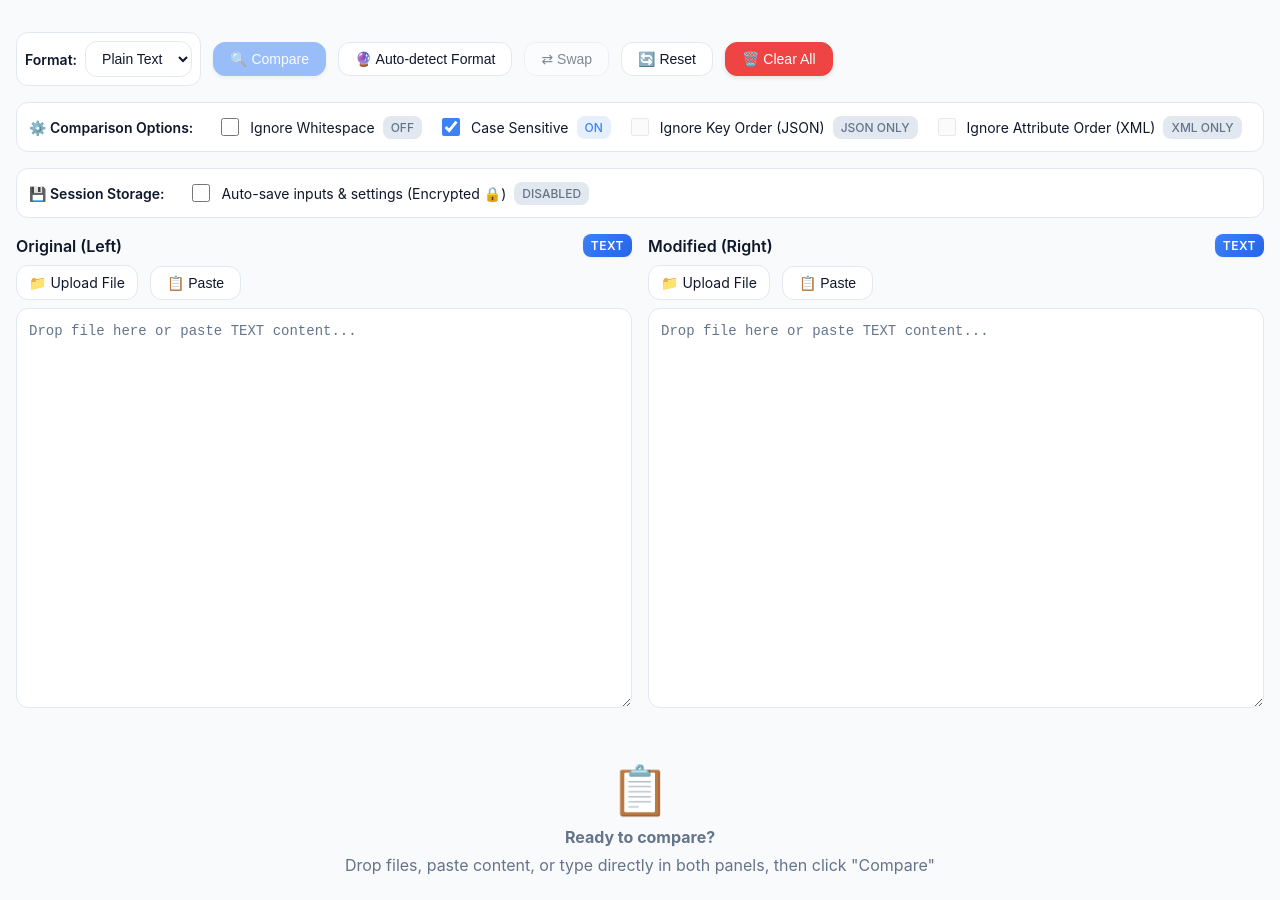
Test: DiffChecker - File Handling › Reset Functionality › should reset to empty content
This screenshot has width=1280, height=900.
# Add content
Type "Left content" into the text box with placeholder "Drop file here or paste TEXT content..." below "Original (Left)" at (324, 508), box [16,308,632,708]
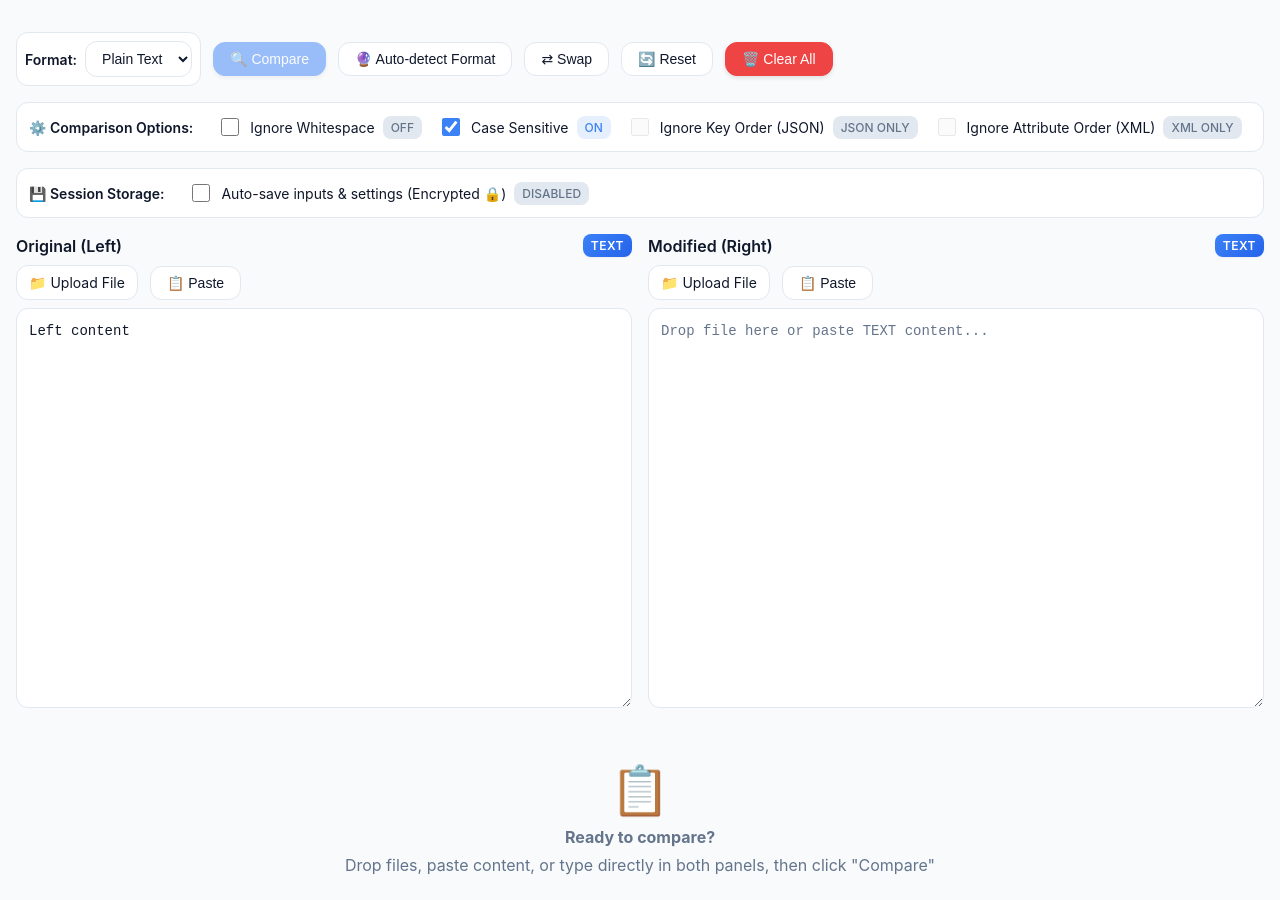
Type "Right content" into the text box with placeholder "Drop file here or paste TEXT content..." at (956, 508), box [648,308,1264,708]
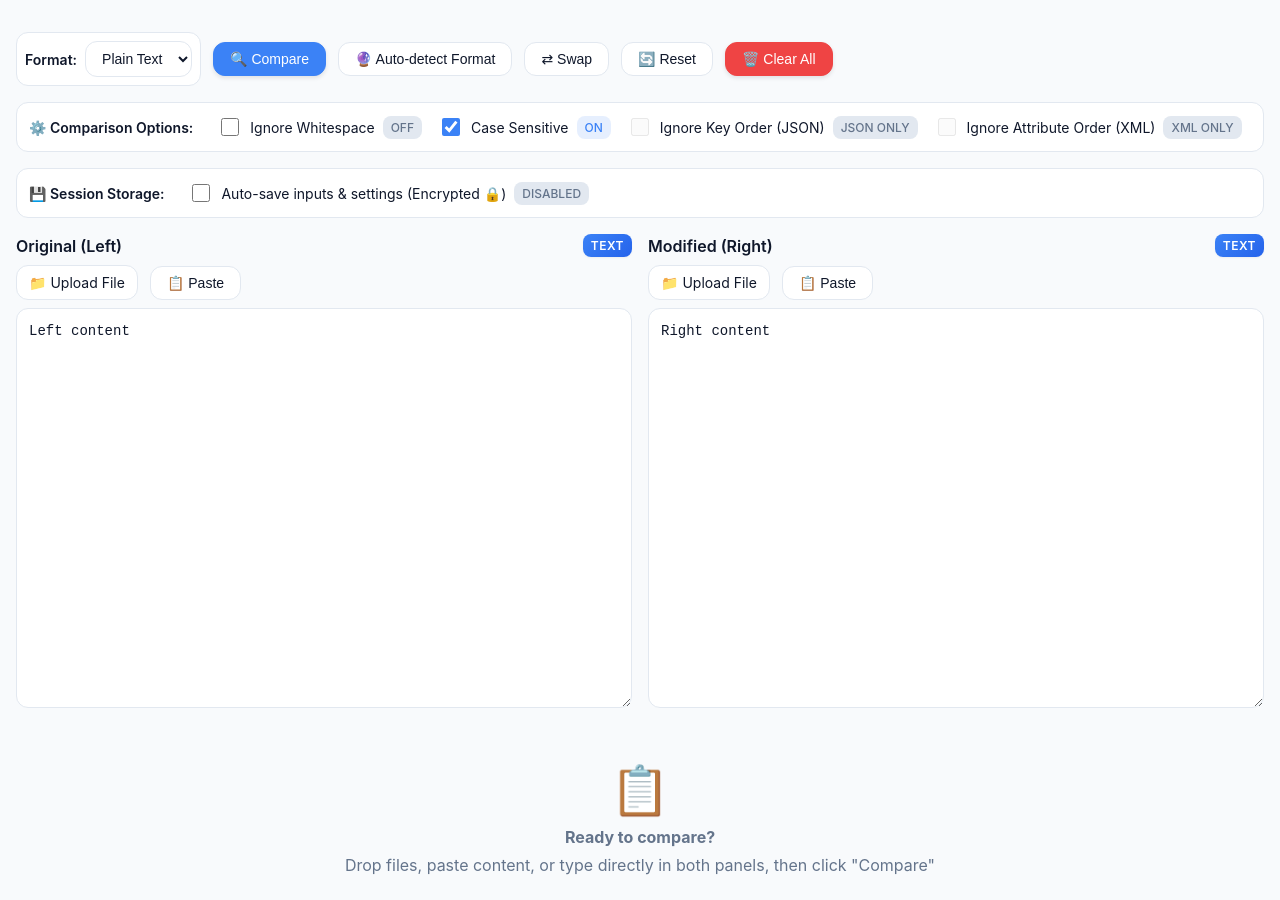
Select "JSON" in the dropdown at (139, 59), box [85,41,192,77]
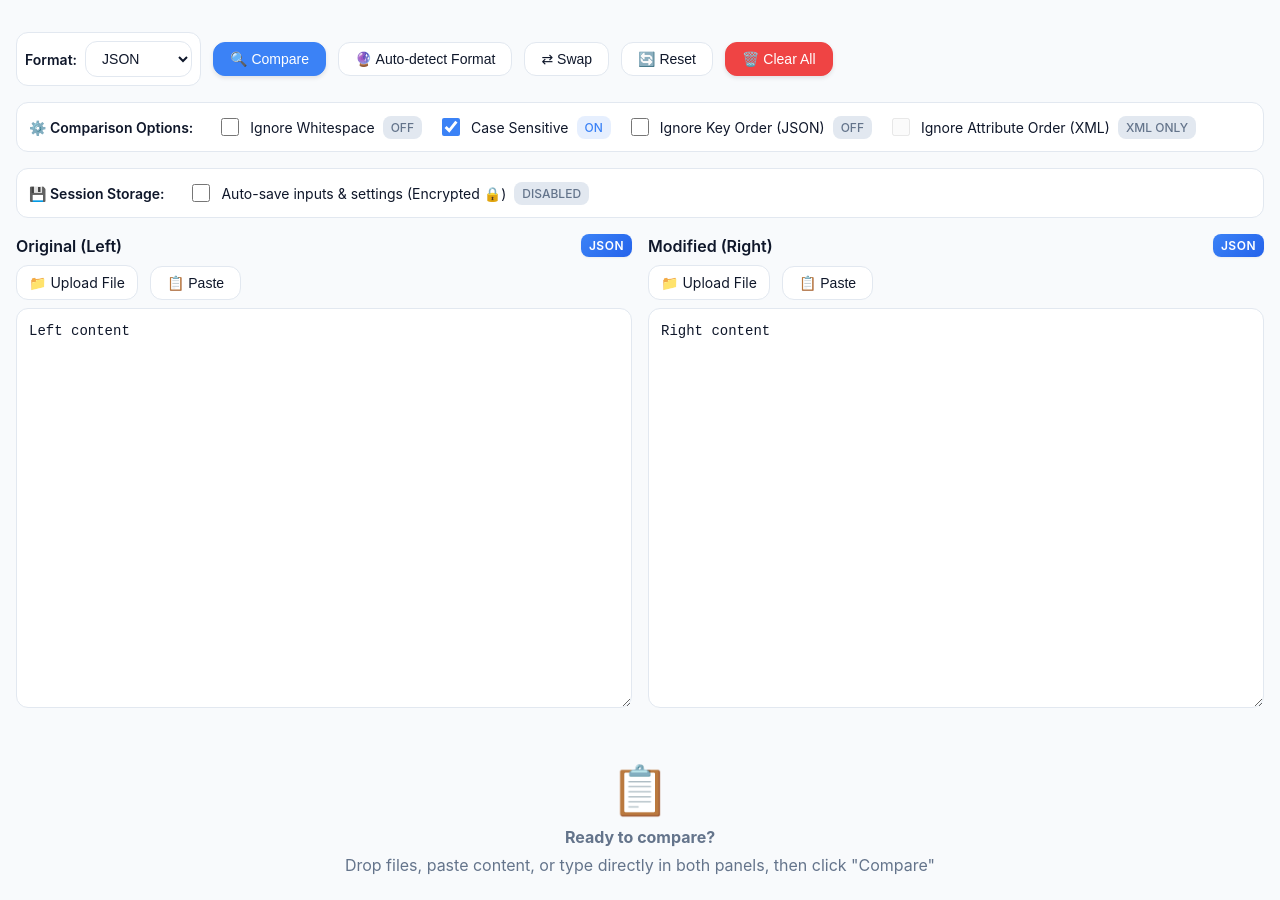
Click the button "🔄 Reset" at (667, 59), box [621,42,713,76]
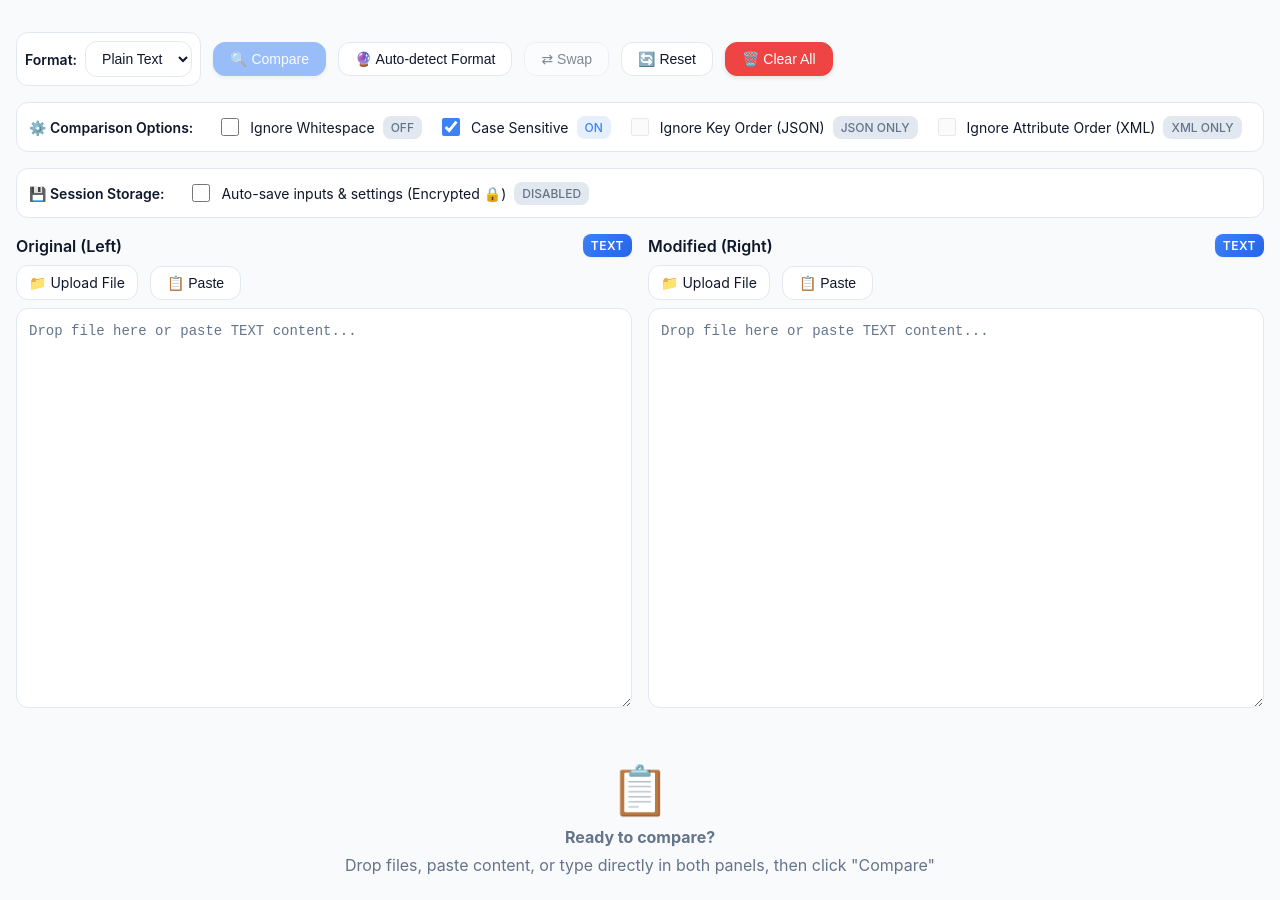
expect the text box with placeholder "Drop file here or paste TEXT content..." below "Original (Left)" is empty: met, box [16,308,632,708]
expect the text box with placeholder "Drop file here or paste TEXT content..." below "Modified (Right)" is empty: met, box [648,308,1264,708]
